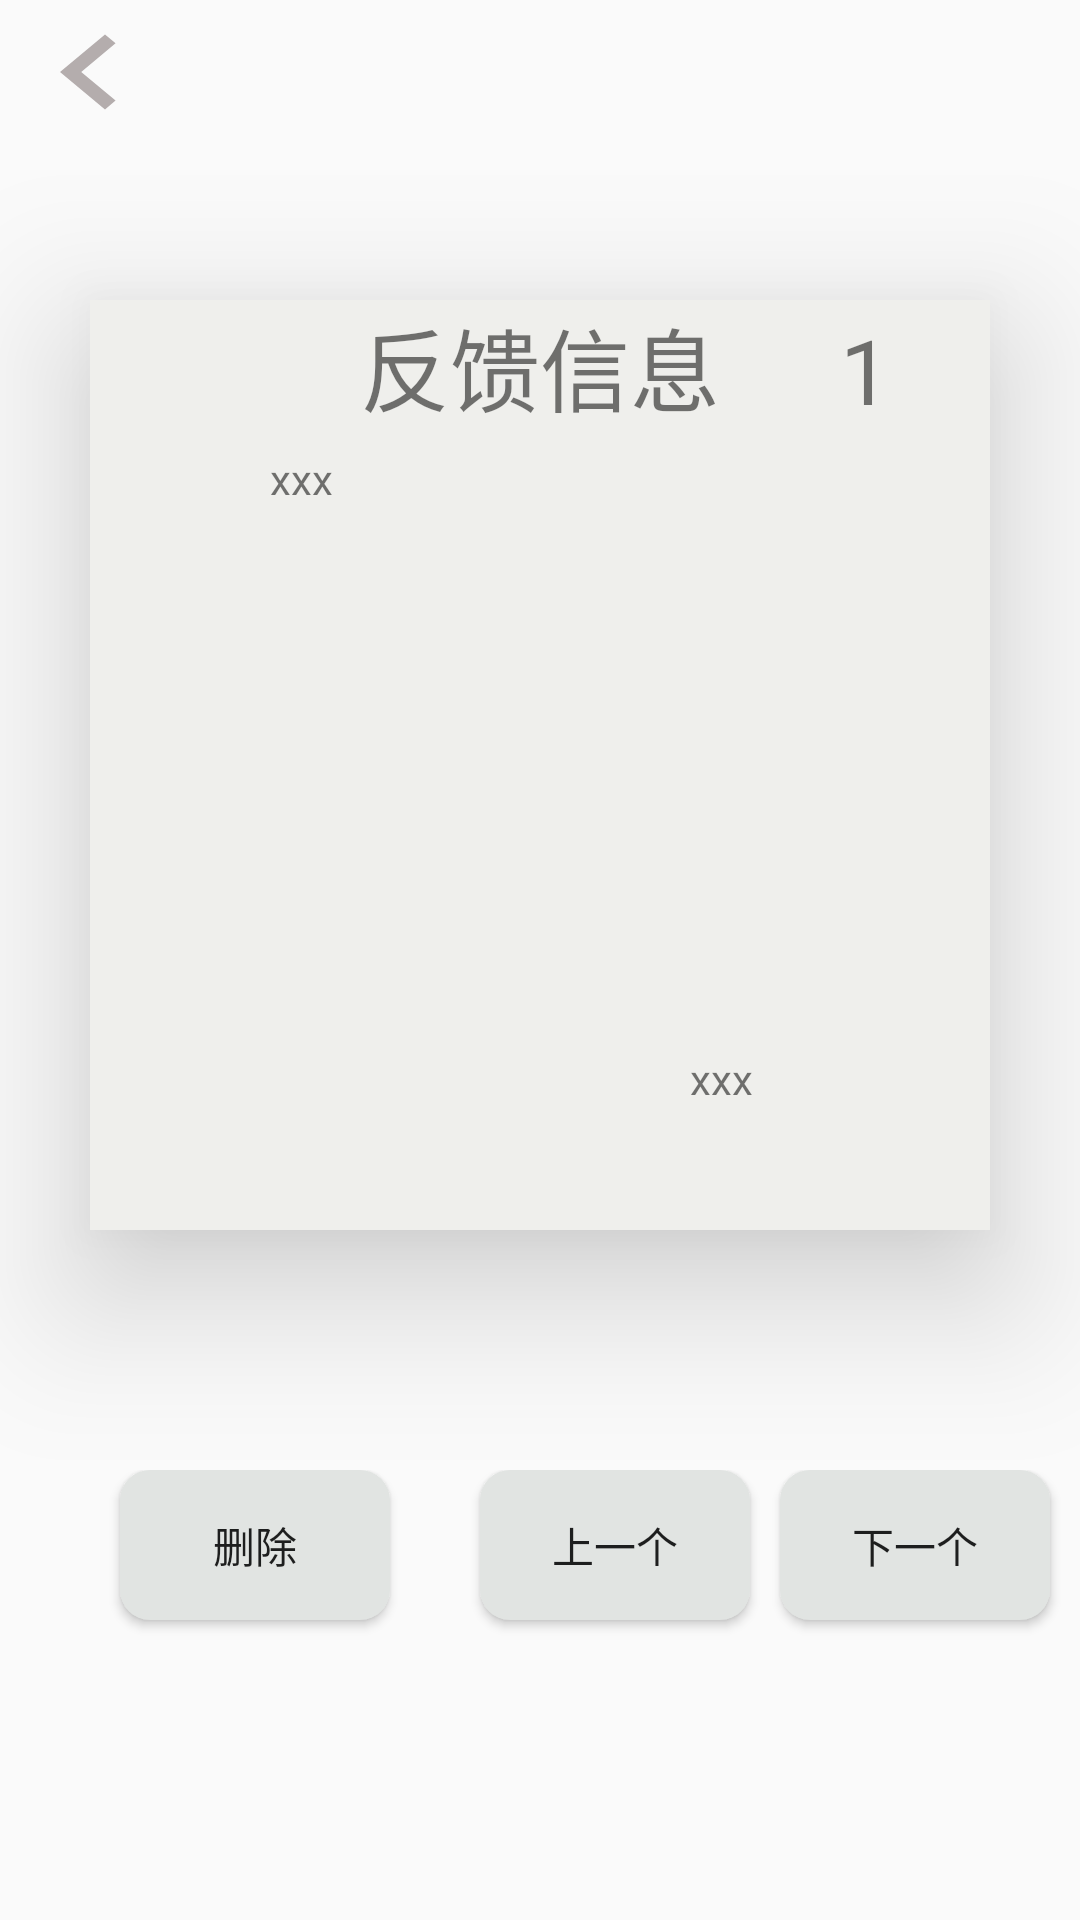

Screen size 1080x1920. Icon name, then its box in pixels as (x1, y1, x2, y2):
keyboard arrow left: (60, 35, 115, 109)
